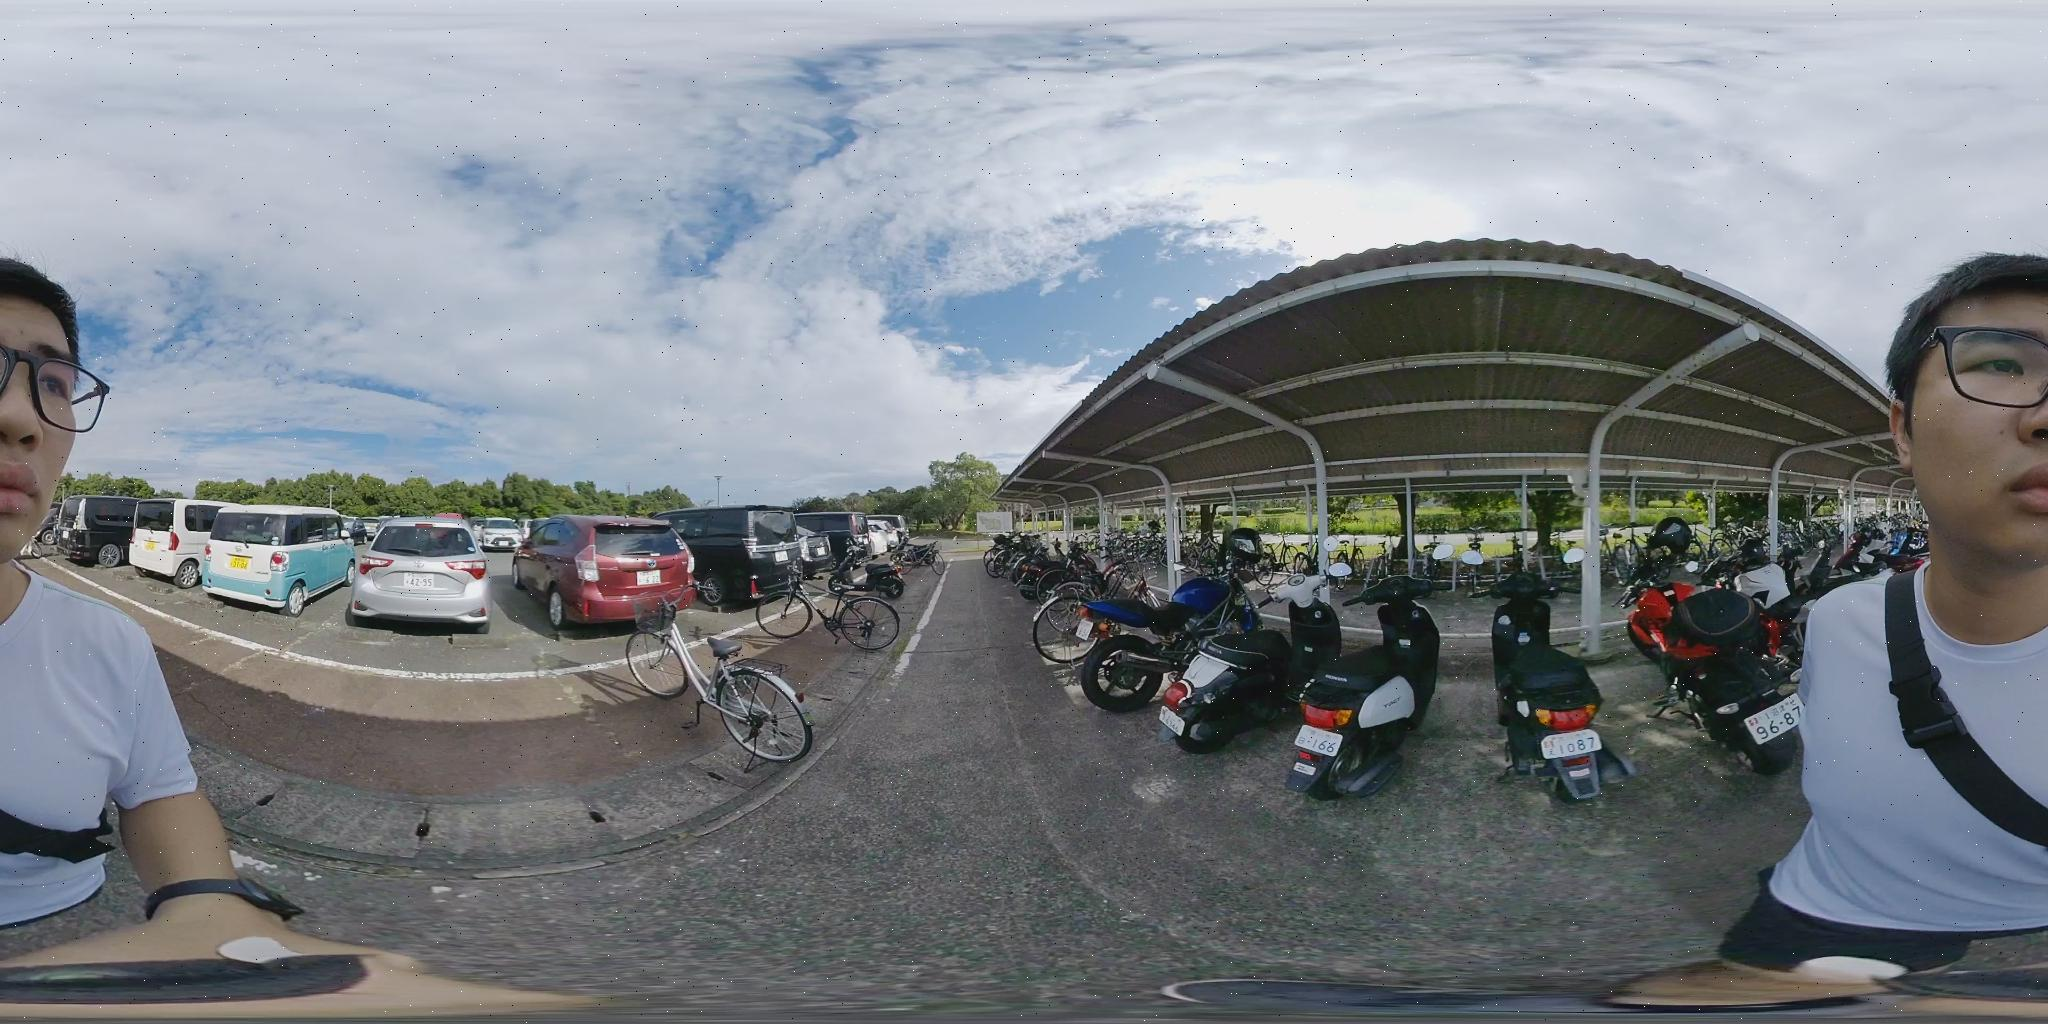car: (511, 520, 701, 635), (347, 516, 491, 632), (205, 505, 347, 605), (135, 500, 259, 584), (57, 496, 179, 568), (477, 516, 532, 549)
